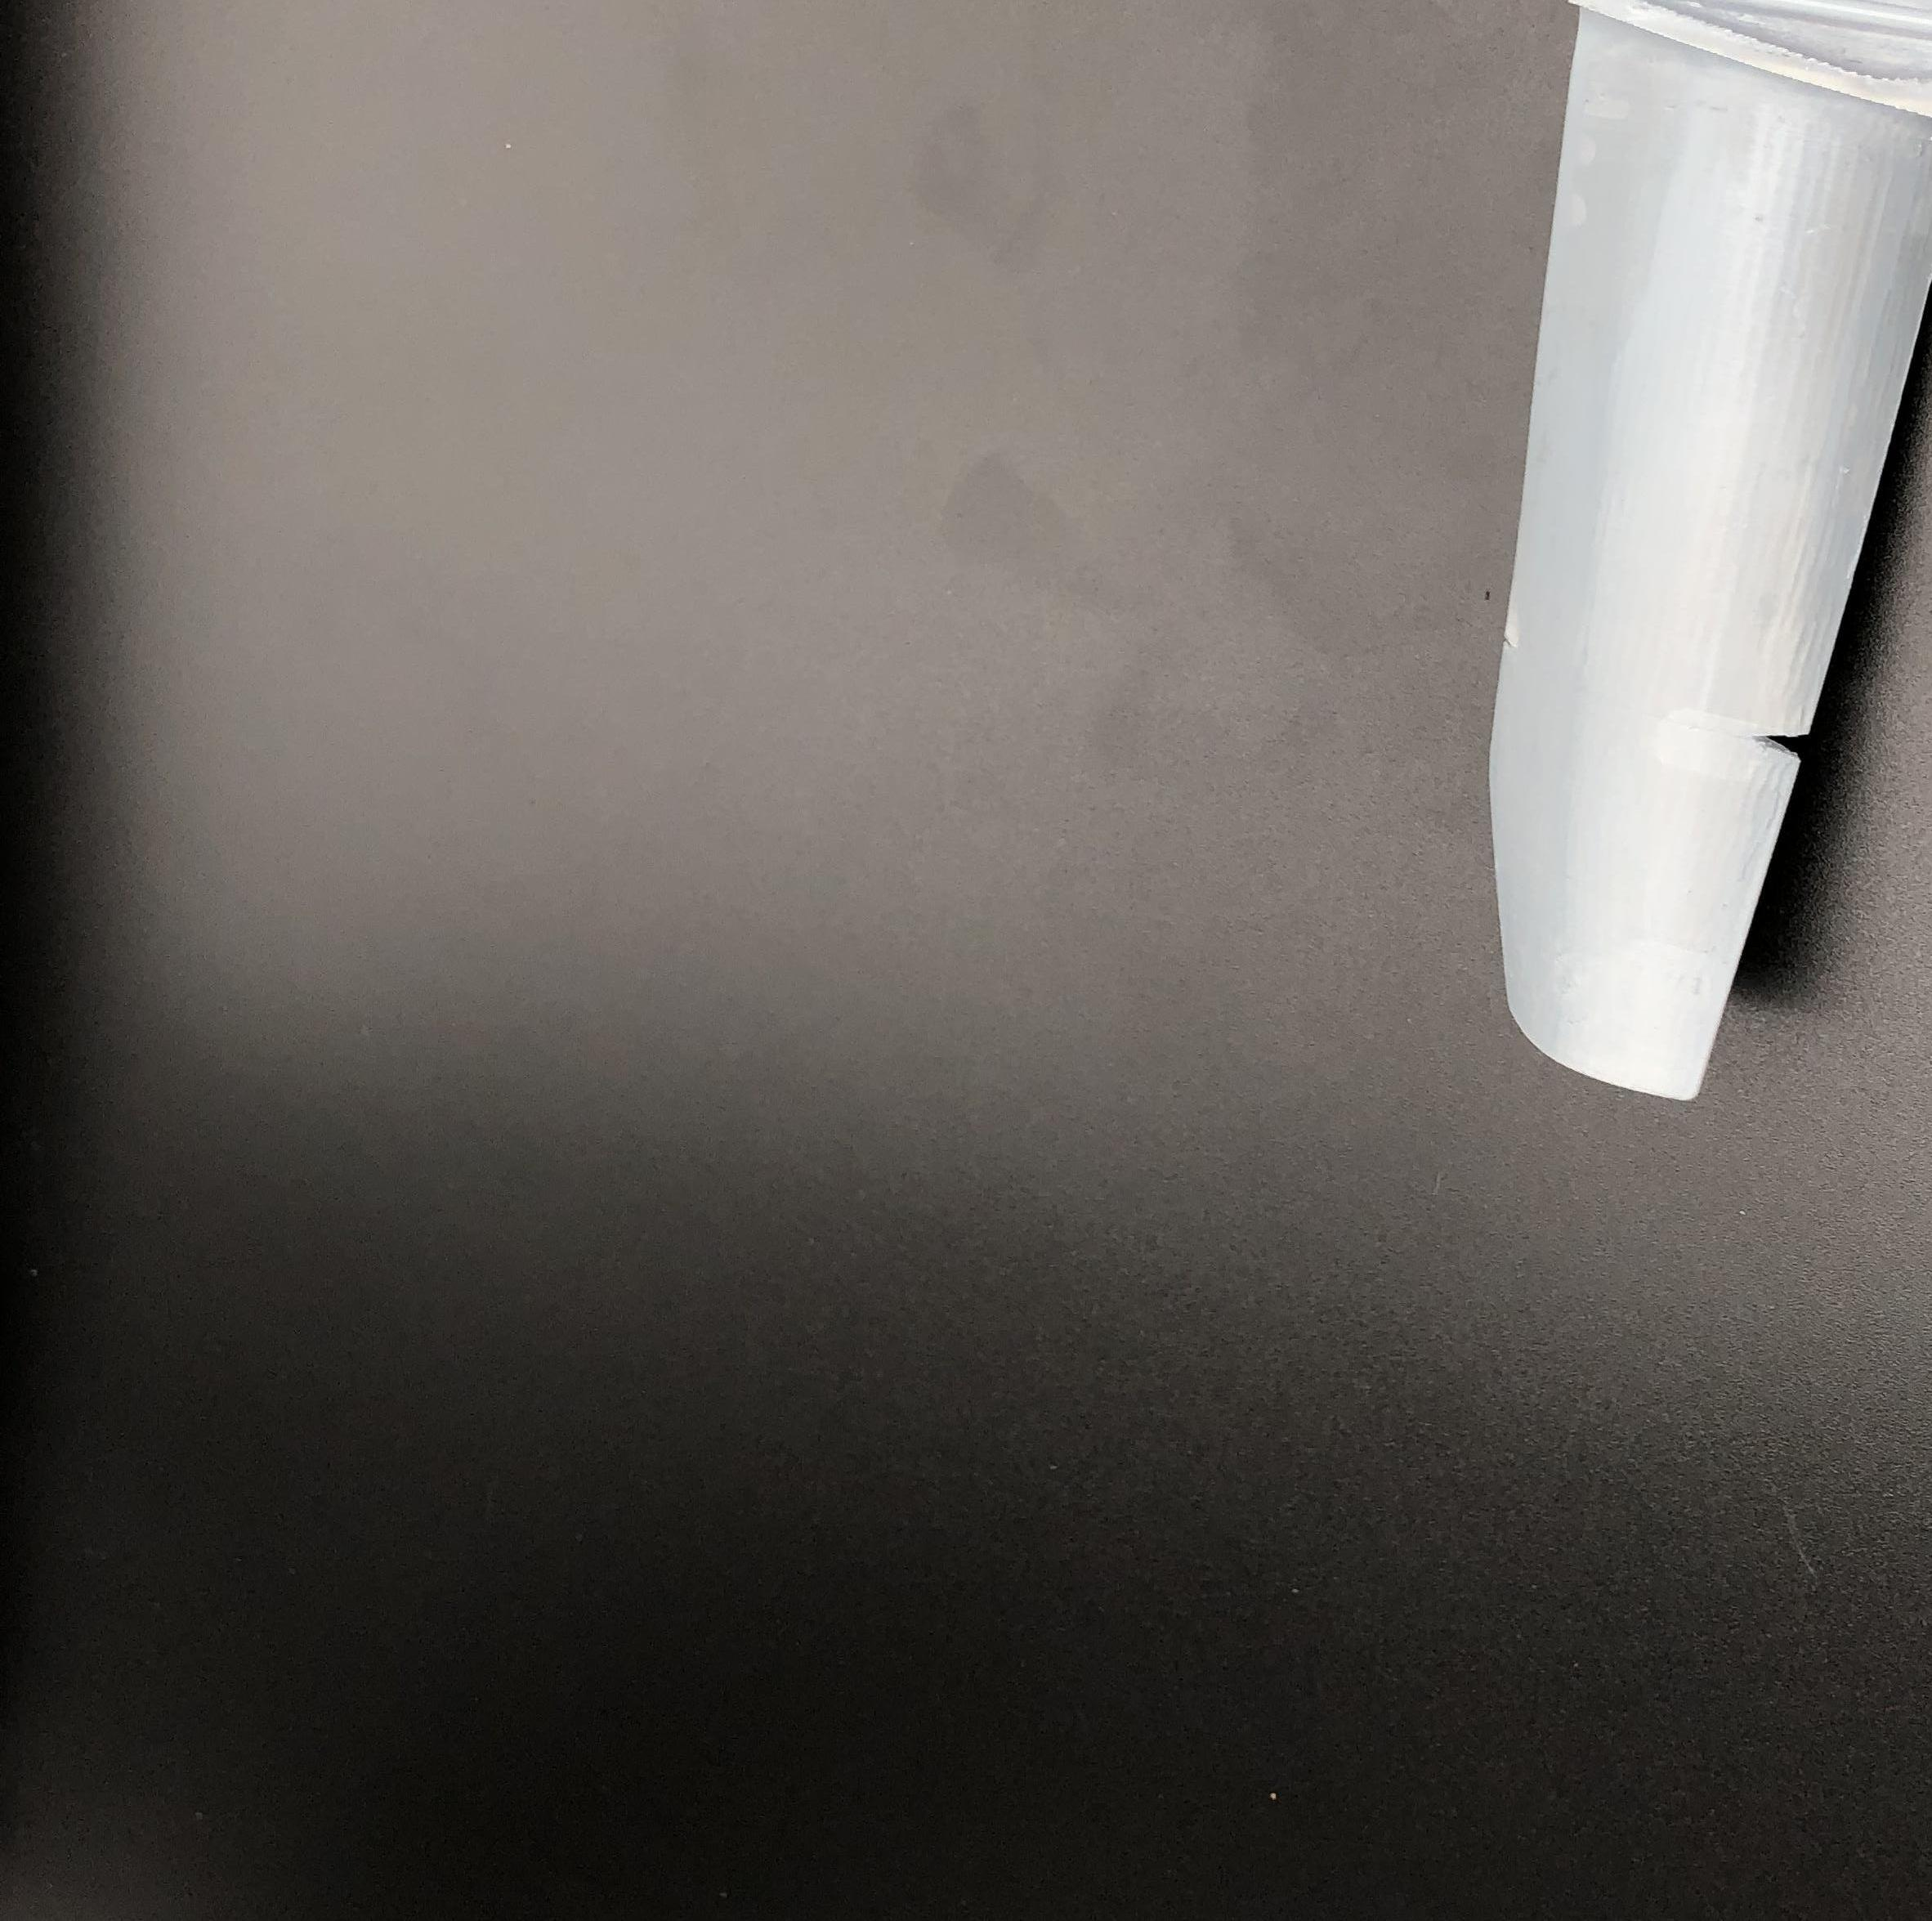groove: (1758, 709, 1807, 771)
